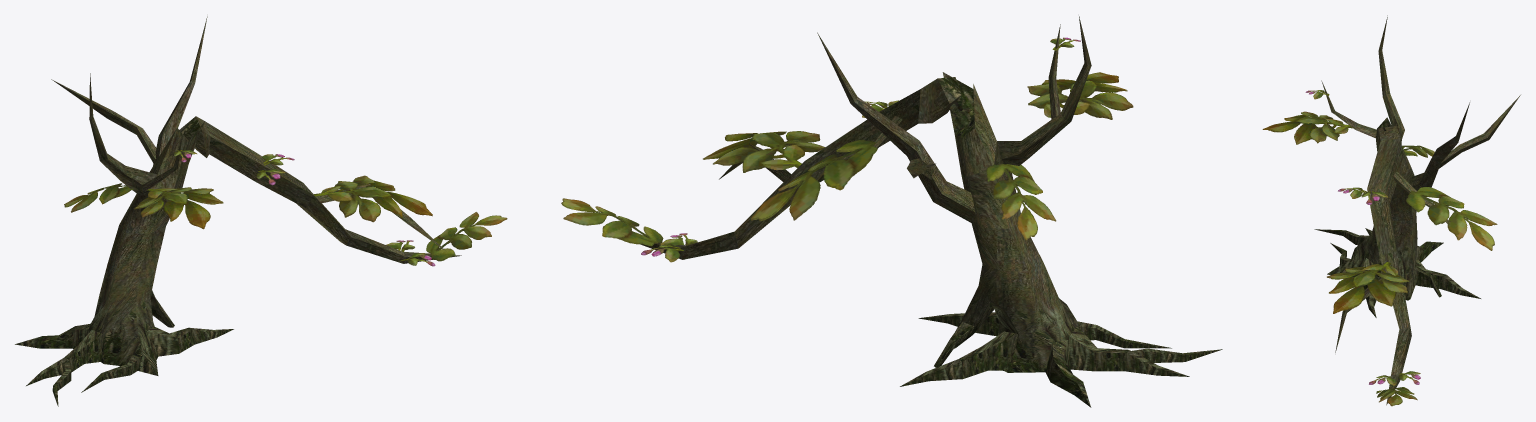
The model's file is guanmu_011.FBX.
3 views of the same model, side by side, from view 1: azimuth 30°, elevation 25°; view 2: azimuth 150°, elevation 25°; view 3: azimuth 270°, elevation 25° (orthographic). The views are drawn at different scales.
Visible parts, largest first — view 1: guanmu_011_03, guanmu_011_01; view 2: guanmu_011_03, guanmu_011_01; view 3: guanmu_011_03, guanmu_011_01.
Boxes of the visible parts, <box> form: guanmu_011_03: <box>15,16,461,406</box>; guanmu_011_01: <box>64,150,507,266</box>; guanmu_011_03: <box>640,16,1222,407</box>; guanmu_011_01: <box>561,37,1133,262</box>; guanmu_011_03: <box>1314,15,1520,405</box>; guanmu_011_01: <box>1262,90,1497,406</box>.
Size of the model in its own units: 4.66 by 2.55 by 2.52.
